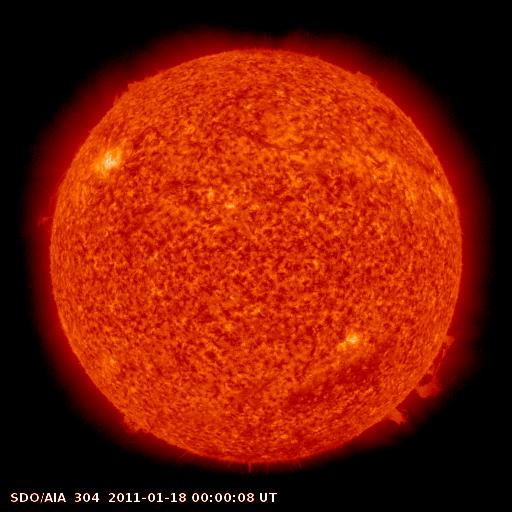prominence: (409, 334, 466, 401), (31, 167, 73, 237), (346, 58, 393, 107), (113, 401, 160, 444), (106, 70, 147, 117), (368, 400, 419, 436)
